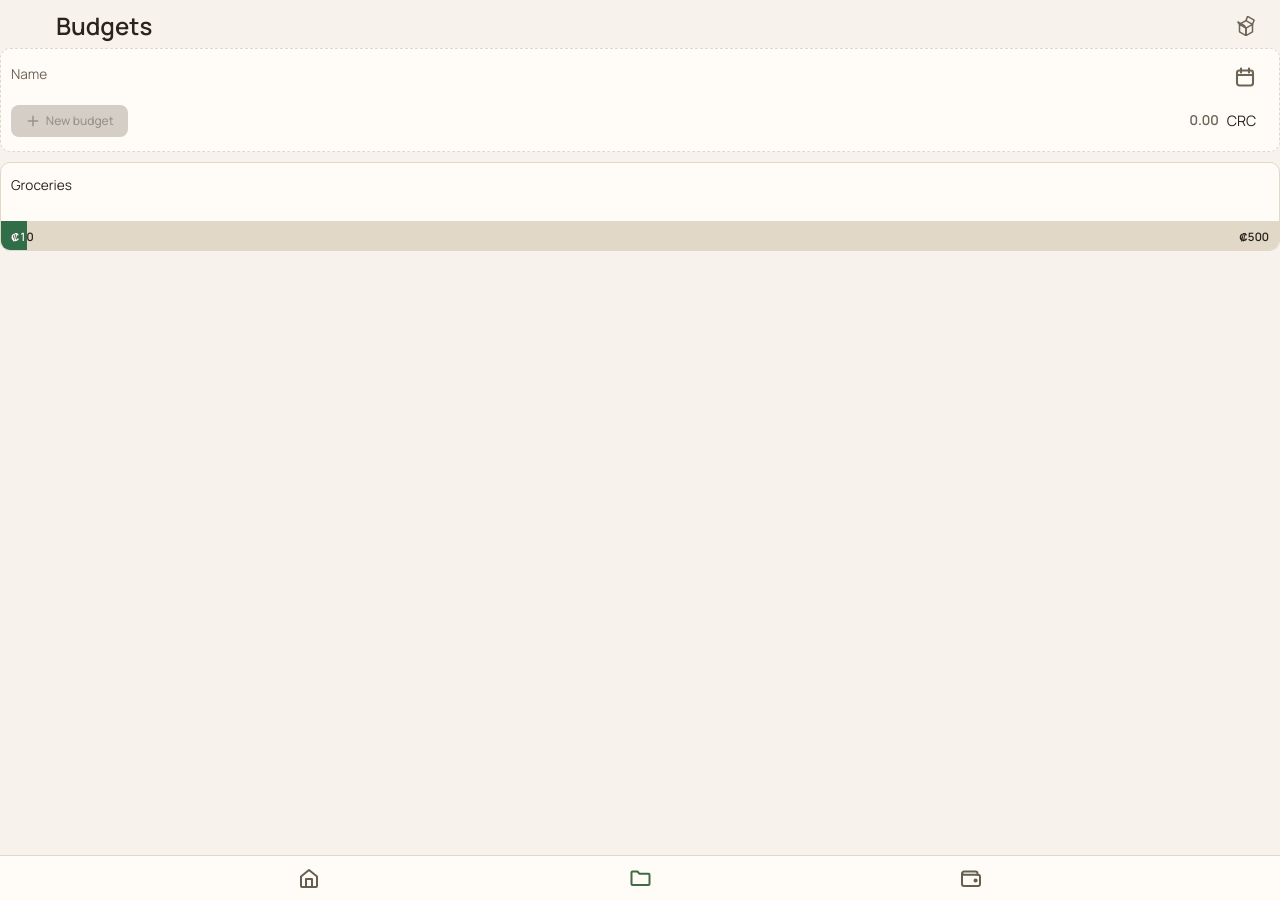
Test: BudgetsPanel tile link › toggling the archived view fetches archived budgets and hides the create form
Expected: the form is shown, [0,48,1279,152]
Click the button named "Show archived budgets": (1246, 26) [1232,12,1260,40]
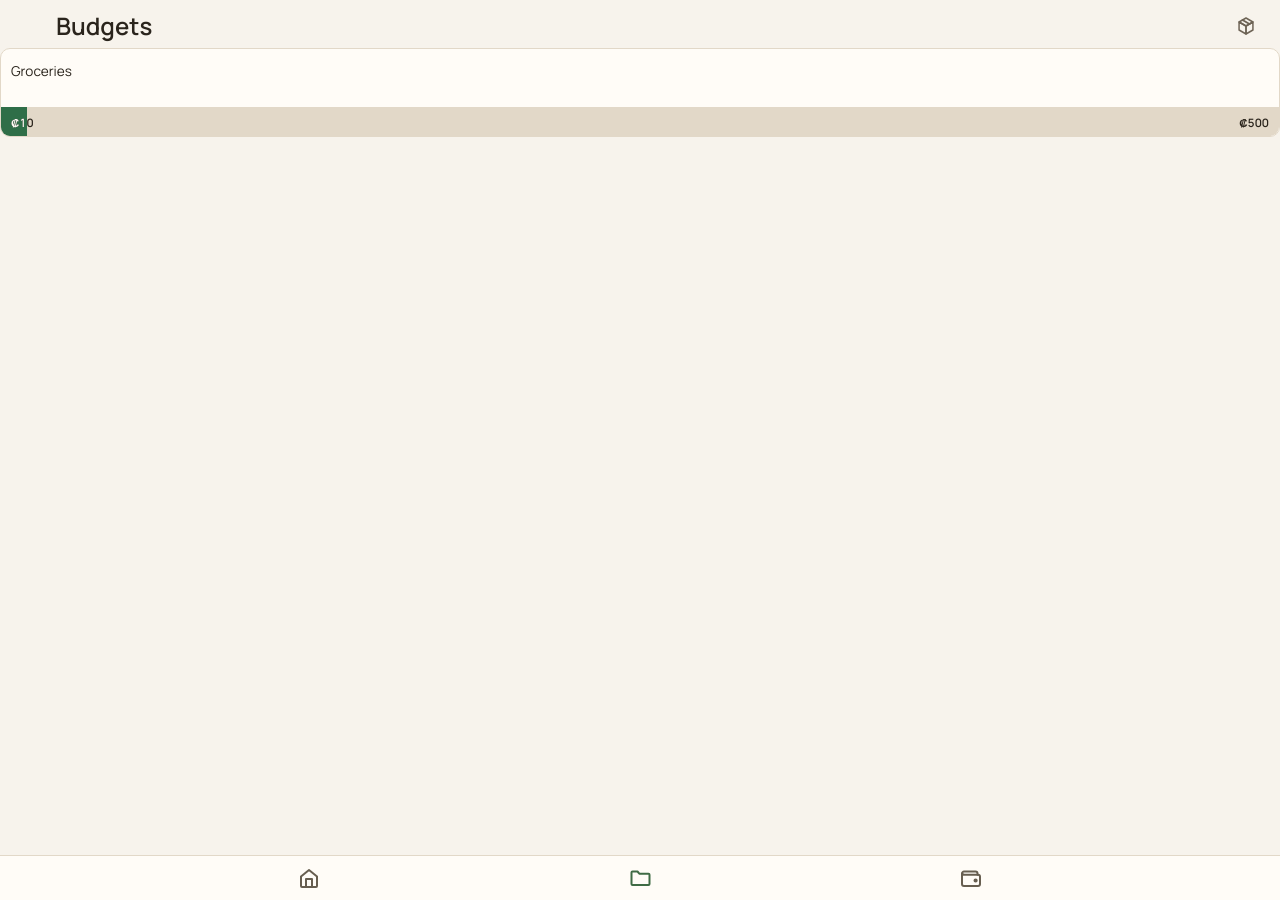
Now the form is gone
Click the button named "Show archived budgets": (1246, 26) [1232,12,1260,40]
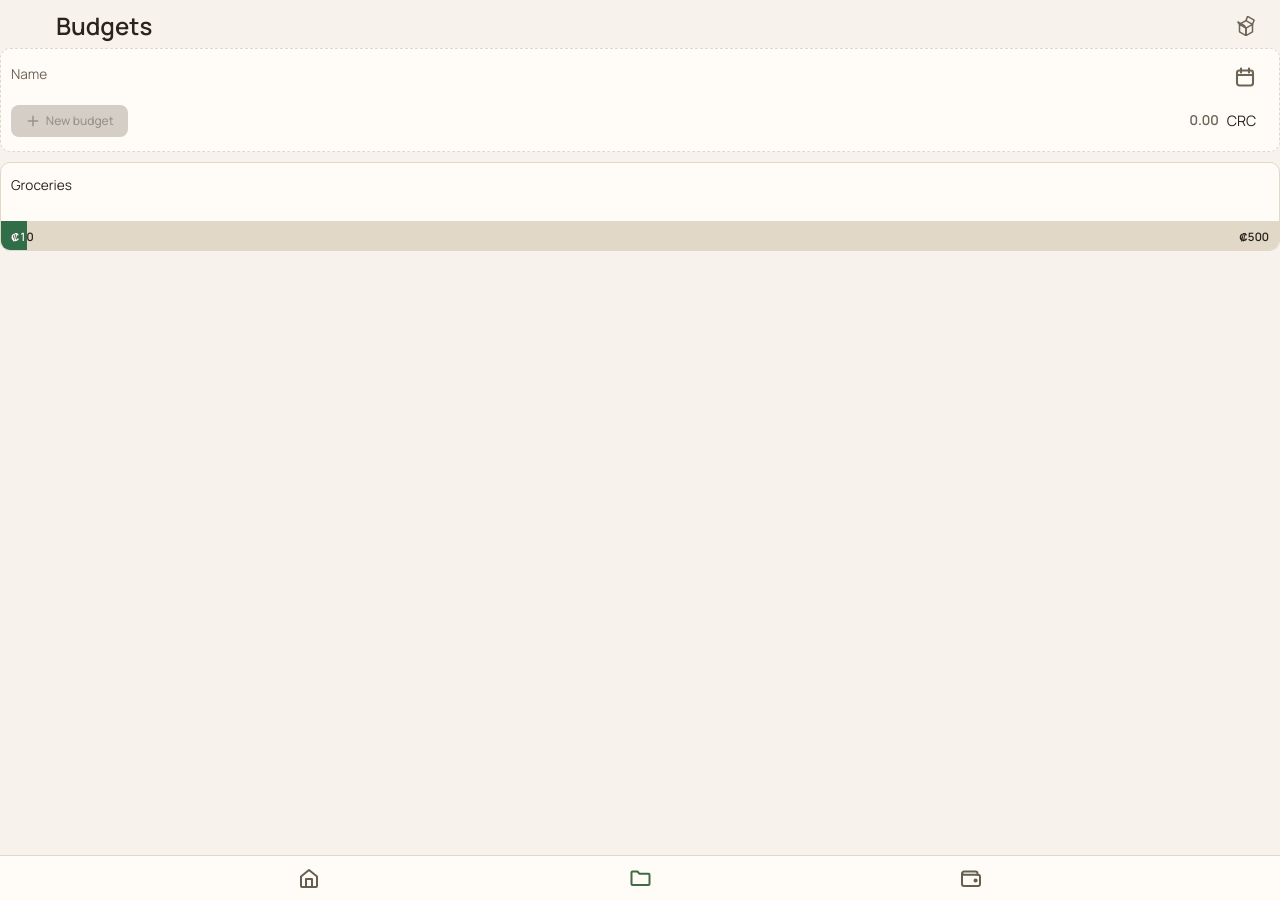
Now the form is shown, box [0,48,1279,152]
